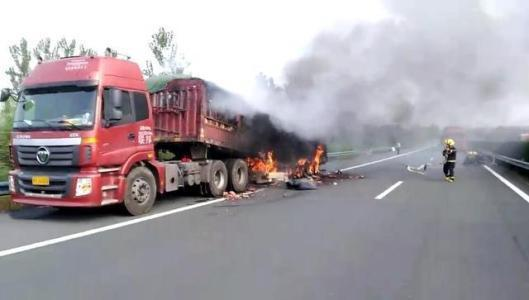fire: (244, 145, 278, 181), (292, 143, 321, 177)
